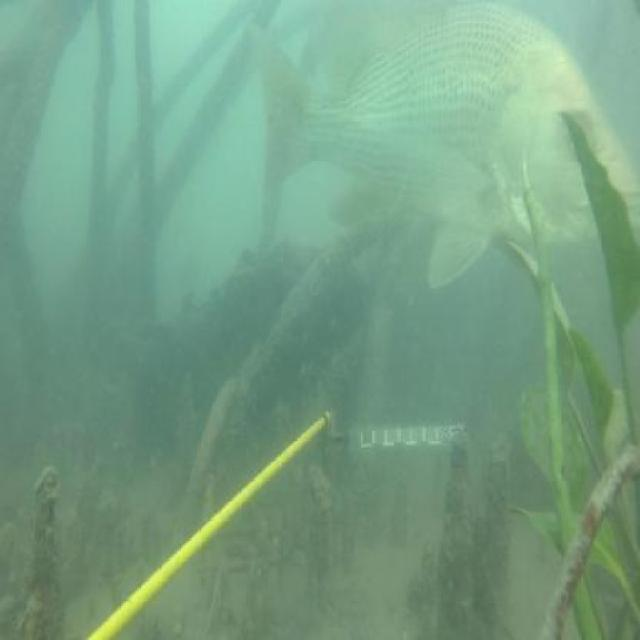lutjanus_johnii: (246, 8, 640, 297)
